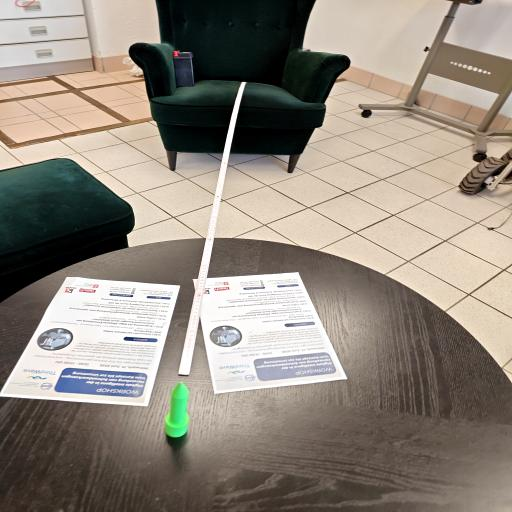Probe-Detection: (164, 381, 189, 437)
